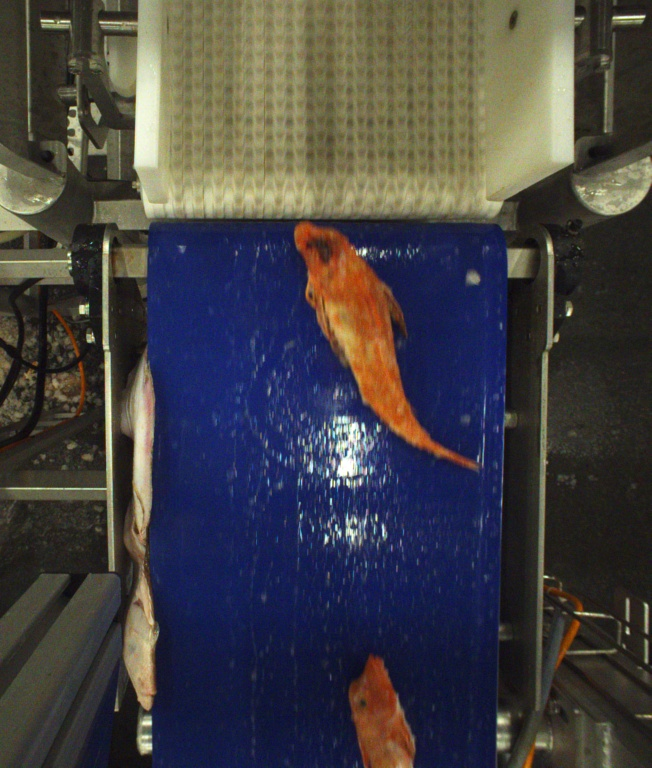GUU: (350, 651, 417, 766)
